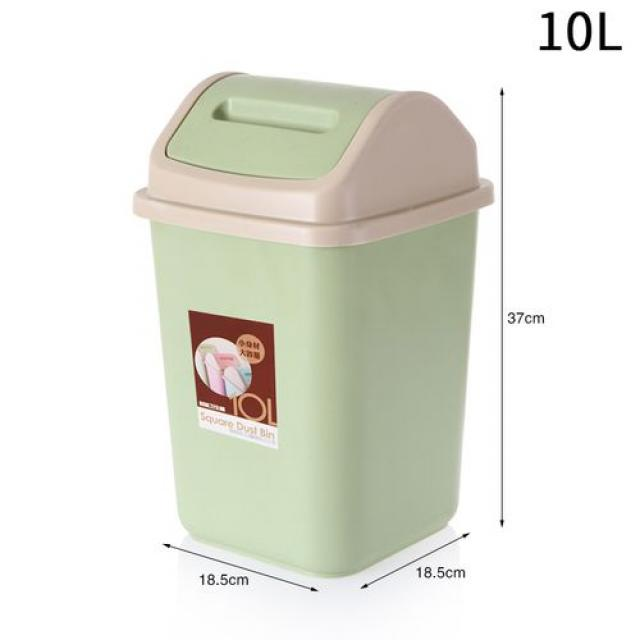Dustbin: (127, 64, 506, 585)
